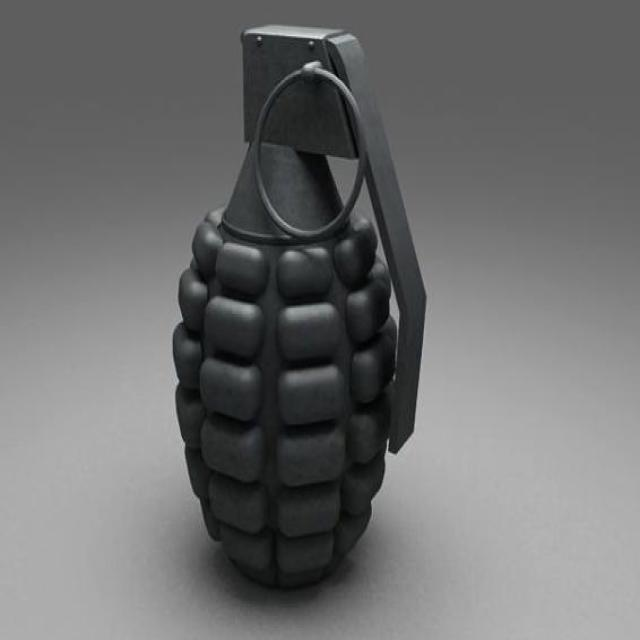grenade: (173, 27, 428, 592)
